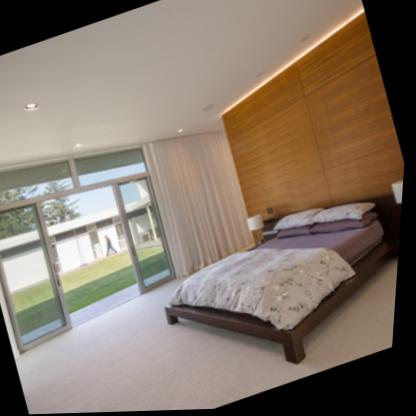Curtains: (141, 127, 257, 279)
Wall Panel: (222, 8, 407, 228)
Window: (0, 148, 177, 355)
